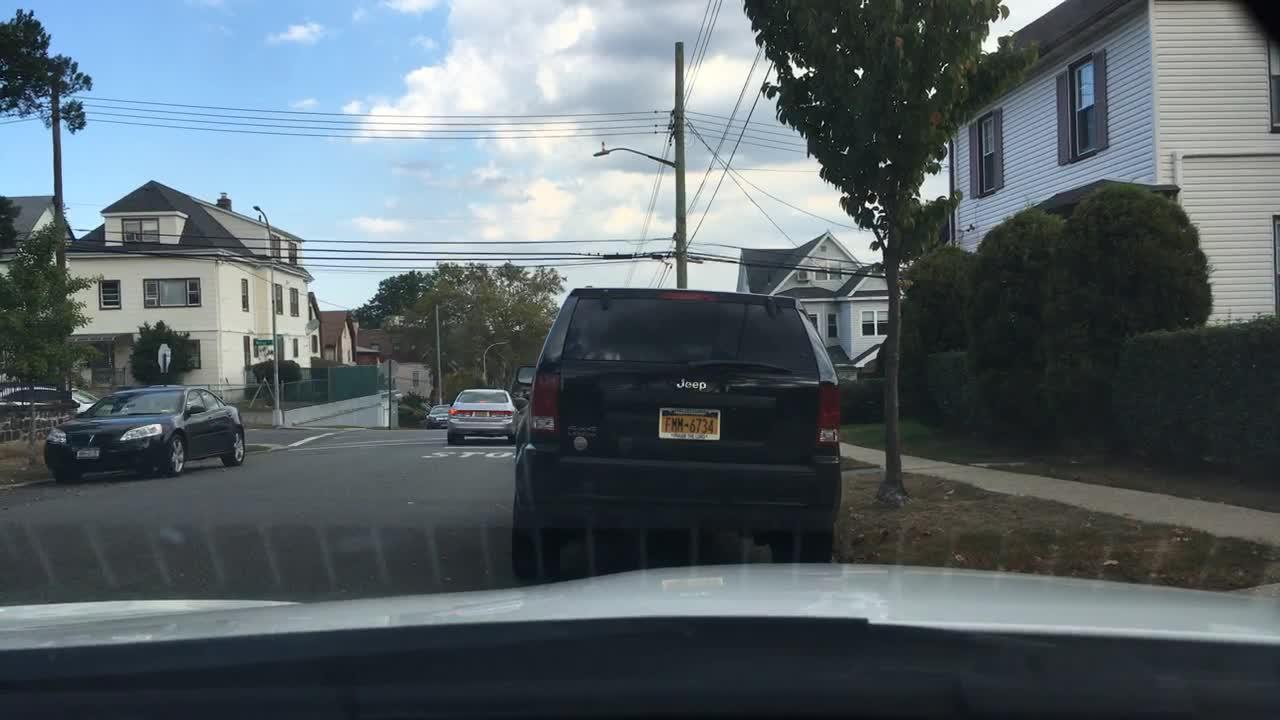jeep: (670, 376, 711, 396)
